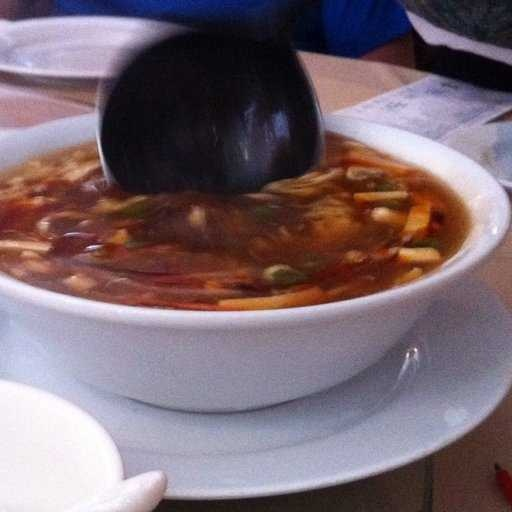soup: (1, 100, 482, 352)
